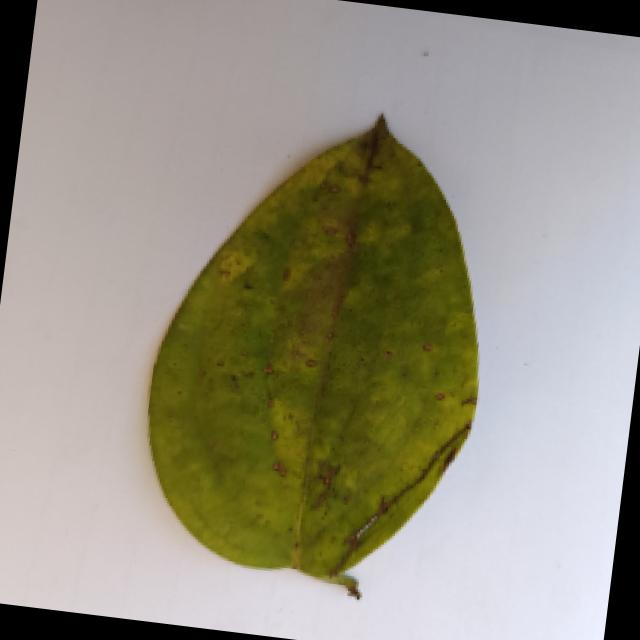slow-decline: (122, 96, 524, 617)
